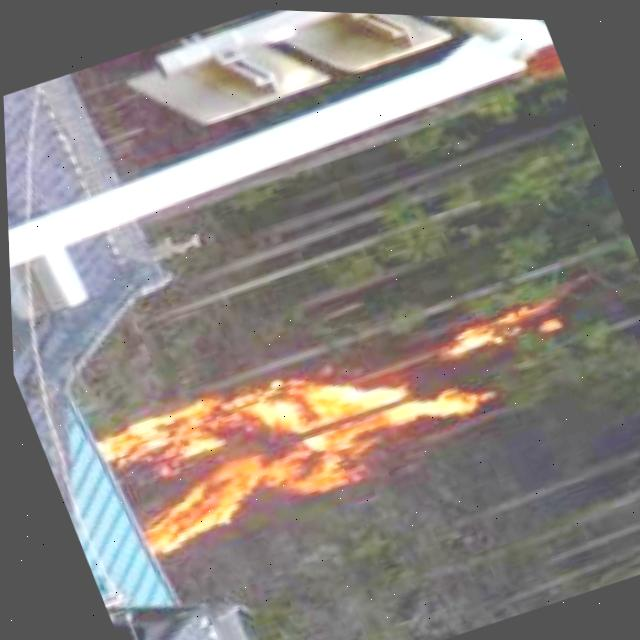Fire: (78, 298, 491, 576), (436, 274, 561, 366)
